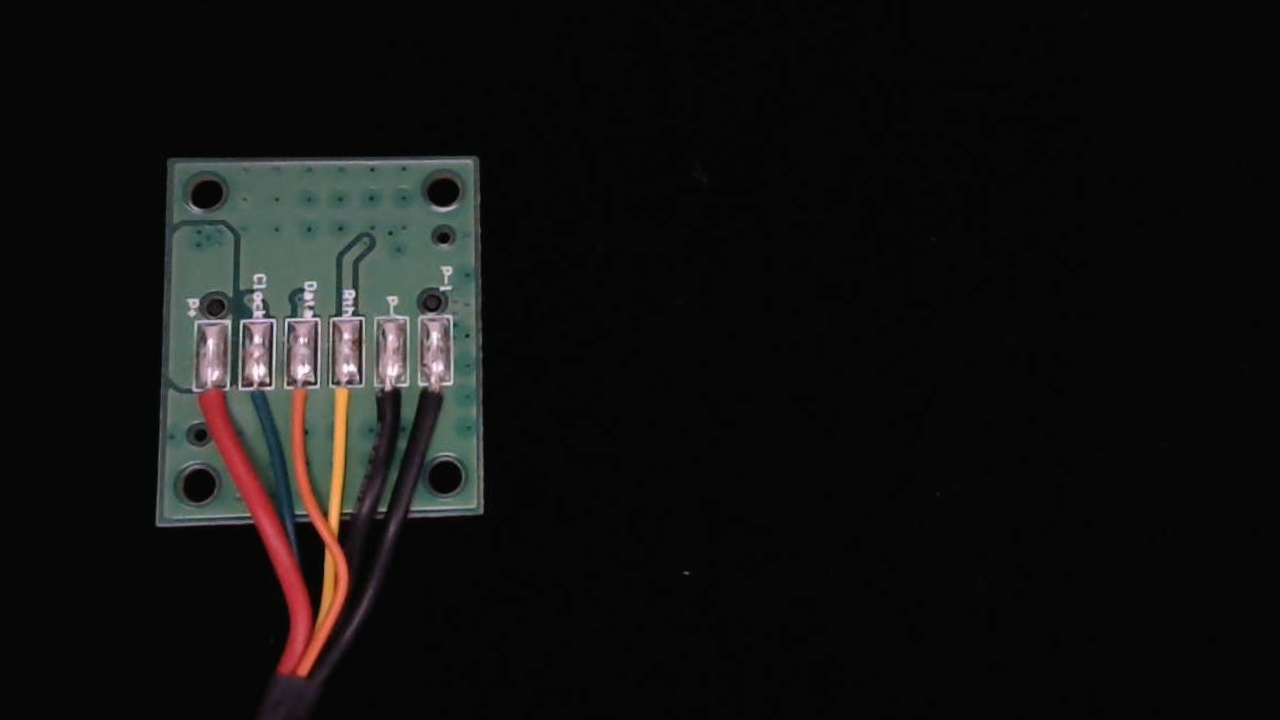Black: (372, 366, 409, 439)
Black1: (417, 365, 453, 441)
Green: (238, 368, 274, 442)
Orange: (283, 369, 320, 435)
Red: (191, 369, 227, 442)
Yellow: (326, 367, 363, 444)
